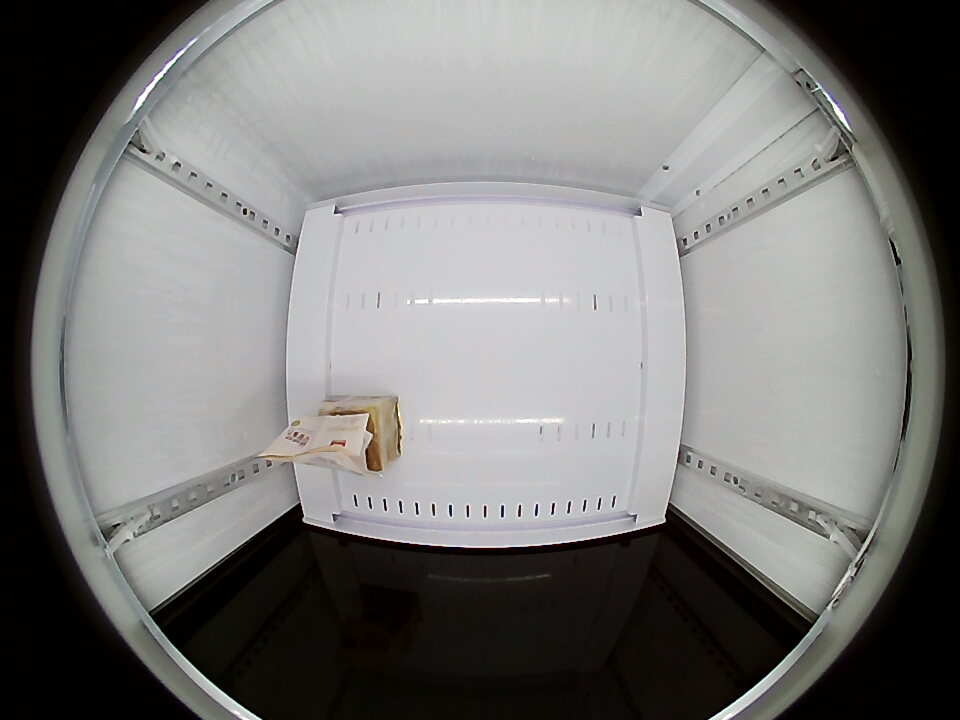zaocanmofang: (322, 401, 395, 476)
